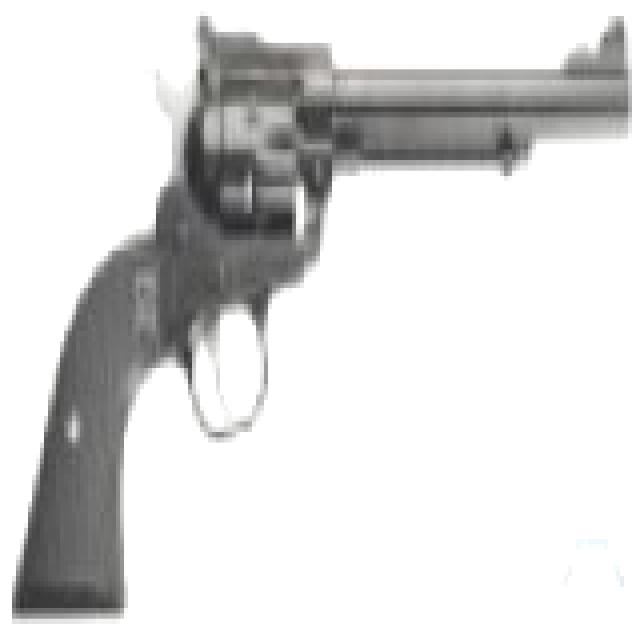pistol: (24, 16, 632, 597)
